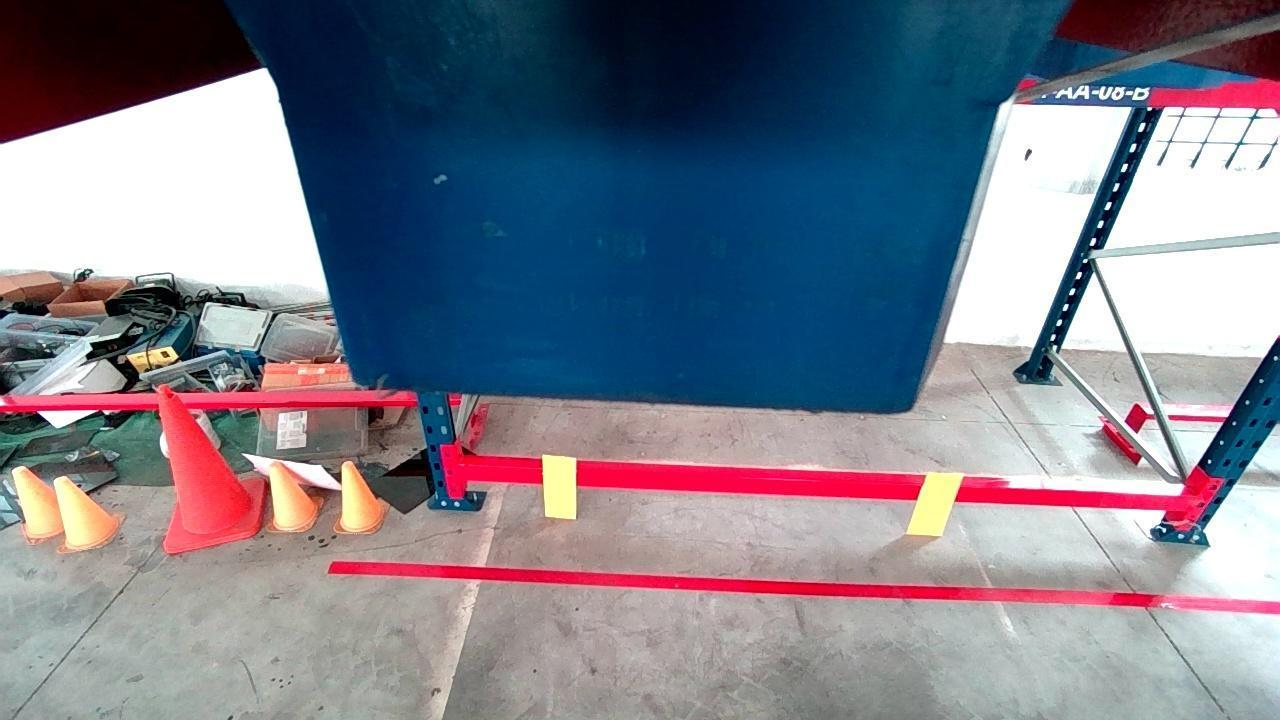h_rack: (460, 456, 1185, 510)
orange_strip: (908, 471, 963, 536), (541, 457, 577, 521)
red_line: (329, 557, 1280, 613)
